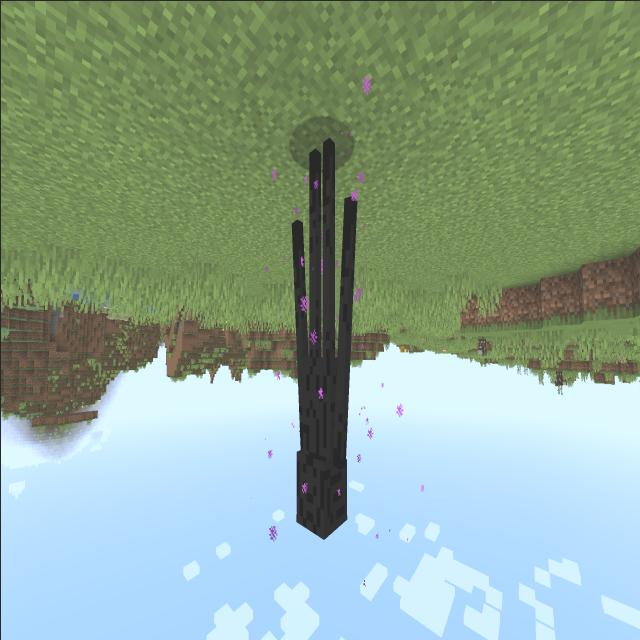Enderman: (273, 104, 369, 545)
